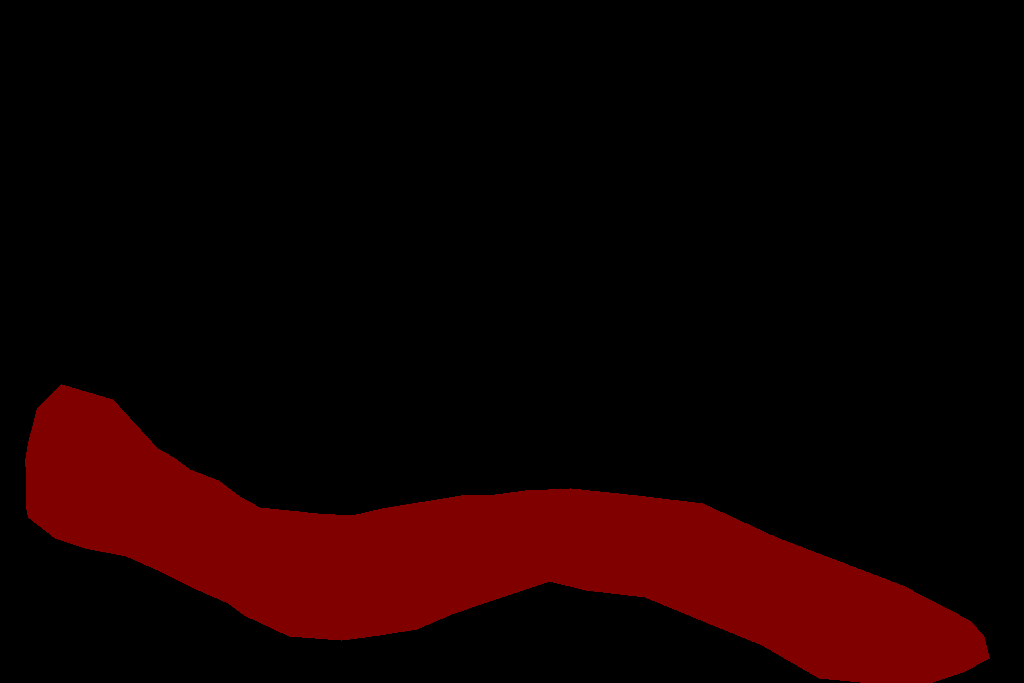fire: (25, 384, 989, 682)
